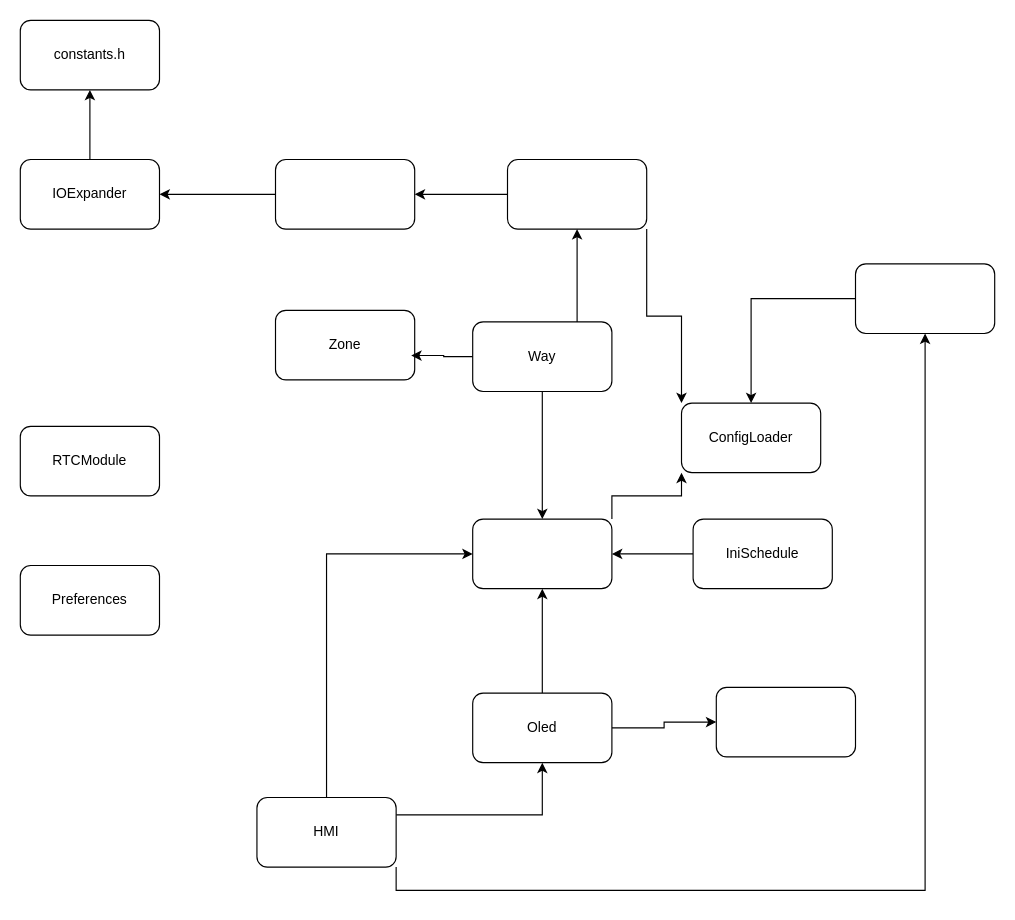
The diagram is 1015 pixels wide and 920 high, and some of its shapes have lost their labels. Here are the shapes that lost their labels. From the top down, the centre of each, then its label:
At (x=344, y=193): "Relay".
At (x=576, y=193): "Valve".
At (x=924, y=298): "Sensors".
At (x=542, y=553): "Watering".
At (x=785, y=721): "Cuve".
